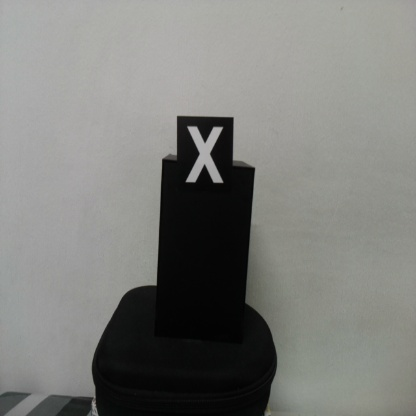id_13: (177, 115, 234, 199)
